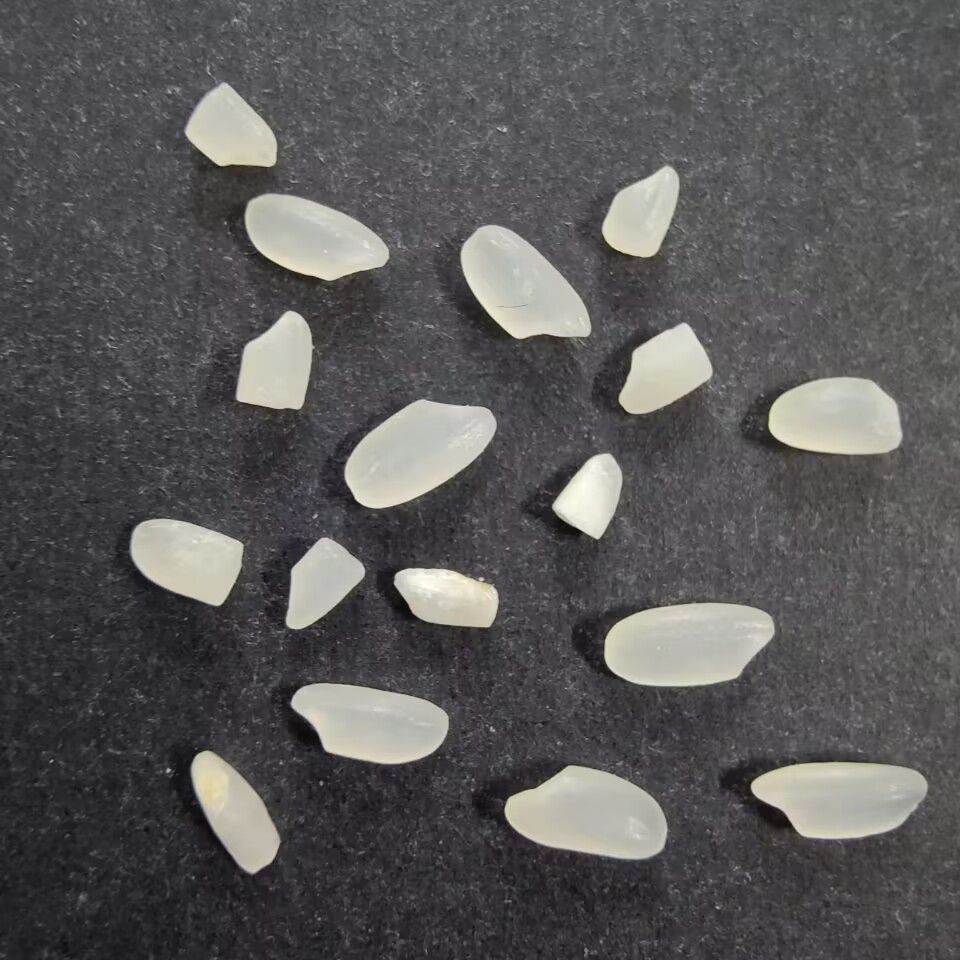broken: (184, 748, 286, 877), (126, 514, 250, 609), (614, 319, 713, 423), (179, 79, 282, 174), (594, 161, 682, 261), (230, 306, 313, 412), (281, 533, 366, 633), (393, 565, 503, 633), (548, 450, 629, 542)
rice: (339, 396, 499, 511), (499, 760, 671, 861), (598, 601, 781, 691), (457, 222, 594, 342), (745, 759, 931, 844), (240, 191, 391, 284), (291, 681, 453, 765), (762, 372, 907, 459)
